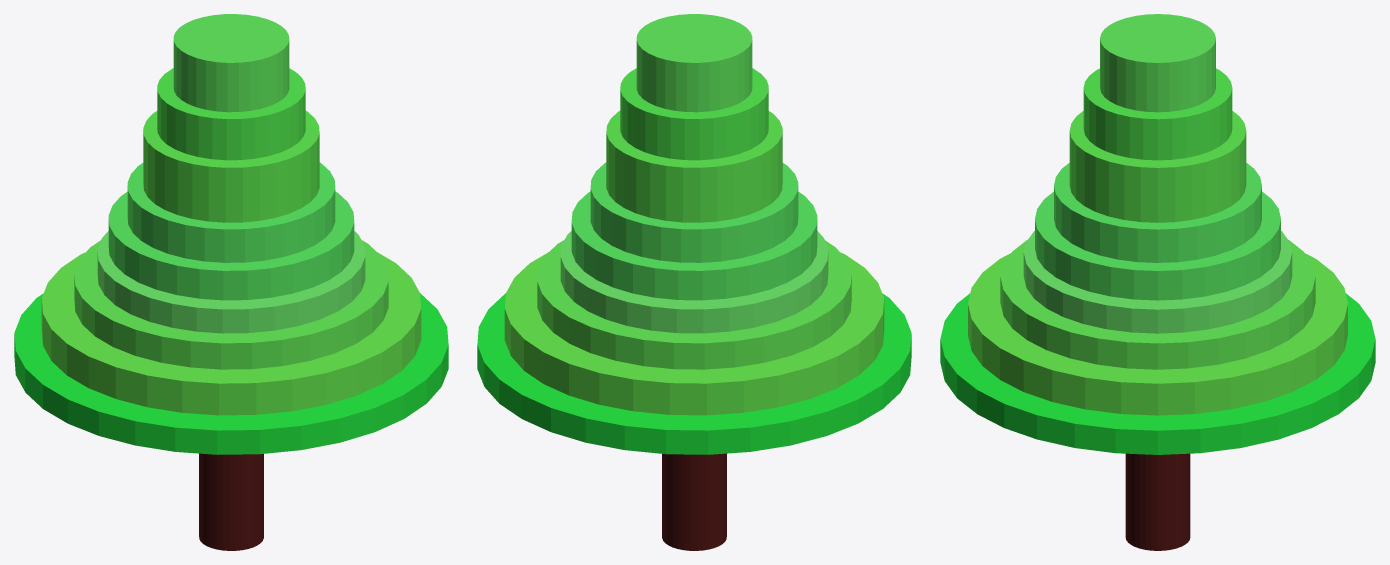
File: derovo.glb
The picture shows the model from 3 angles, left to right: view 1: azimuth 30°, elevation 25°; view 2: azimuth 150°, elevation 25°; view 3: azimuth 270°, elevation 25°; orthographic projection.
Visible parts, largest first — view 1: Циліндр.009, Циліндр.001, Циліндр.002, Циліндр.006, Циліндр.004, Циліндр.008, Циліндр.003, Циліндр.005, Циліндр.007, Циліндр; view 2: Циліндр.009, Циліндр.001, Циліндр.002, Циліндр.006, Циліндр.004, Циліндр.008, Циліндр.003, Циліндр.005, Циліндр.007, Циліндр; view 3: Циліндр.009, Циліндр.001, Циліндр.002, Циліндр.006, Циліндр.004, Циліндр.008, Циліндр.003, Циліндр.005, Циліндр.007, Циліндр.
Boxes of the visible parts, left/top/right/bottom form: Циліндр.009: left=41, top=252, right=421, bottom=415; Циліндр.001: left=14, top=293, right=448, bottom=454; Циліндр.002: left=74, top=240, right=388, bottom=369; Циліндр.006: left=143, top=111, right=319, bottom=222; Циліндр.004: left=108, top=191, right=354, bottom=300; Циліндр.008: left=173, top=14, right=289, bottom=112; Циліндр.003: left=97, top=231, right=365, bottom=333; Циліндр.005: left=127, top=162, right=335, bottom=262; Циліндр.007: left=157, top=68, right=305, bottom=160; Циліндр: left=199, top=453, right=263, bottom=550; Циліндр.009: left=504, top=252, right=884, bottom=415; Циліндр.001: left=477, top=293, right=911, bottom=454; Циліндр.002: left=537, top=240, right=851, bottom=369; Циліндр.006: left=606, top=111, right=782, bottom=222; Циліндр.004: left=571, top=191, right=817, bottom=300; Циліндр.008: left=636, top=14, right=752, bottom=112; Циліндр.003: left=560, top=231, right=828, bottom=333; Циліндр.005: left=590, top=162, right=798, bottom=262; Циліндр.007: left=620, top=68, right=768, bottom=160; Циліндр: left=662, top=453, right=726, bottom=550; Циліндр.009: left=968, top=253, right=1347, bottom=415; Циліндр.001: left=940, top=293, right=1375, bottom=454; Циліндр.002: left=1000, top=239, right=1315, bottom=369; Циліндр.006: left=1069, top=111, right=1246, bottom=222; Циліндр.004: left=1035, top=191, right=1280, bottom=300; Циліндр.008: left=1100, top=14, right=1215, bottom=112; Циліндр.003: left=1023, top=231, right=1292, bottom=333; Циліндр.005: left=1054, top=163, right=1261, bottom=262; Циліндр.007: left=1083, top=68, right=1232, bottom=160; Циліндр: left=1125, top=453, right=1190, bottom=550.
Size of the model in its own units: 13.41 by 16.97 by 13.41.
